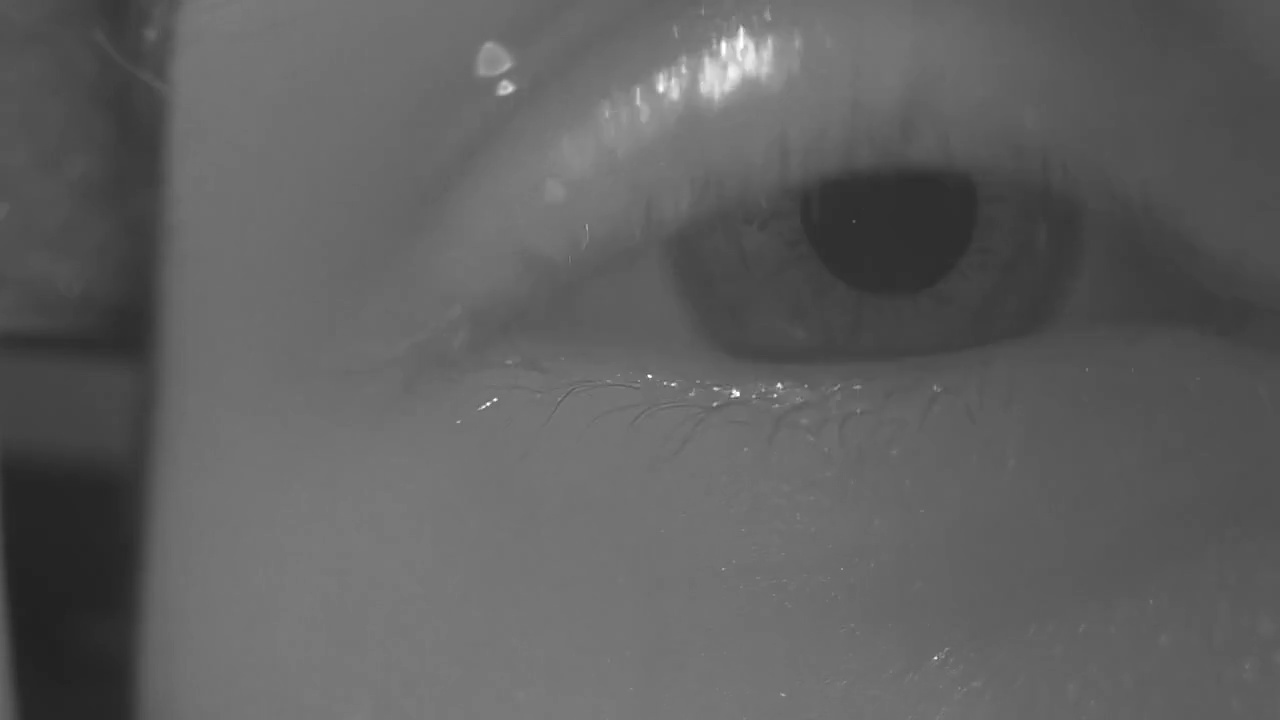pupil: (797, 161, 982, 292)
